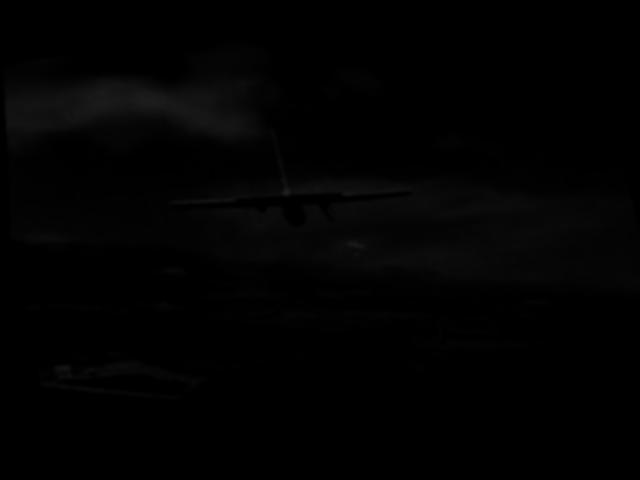hedef: (151, 84, 416, 264)
